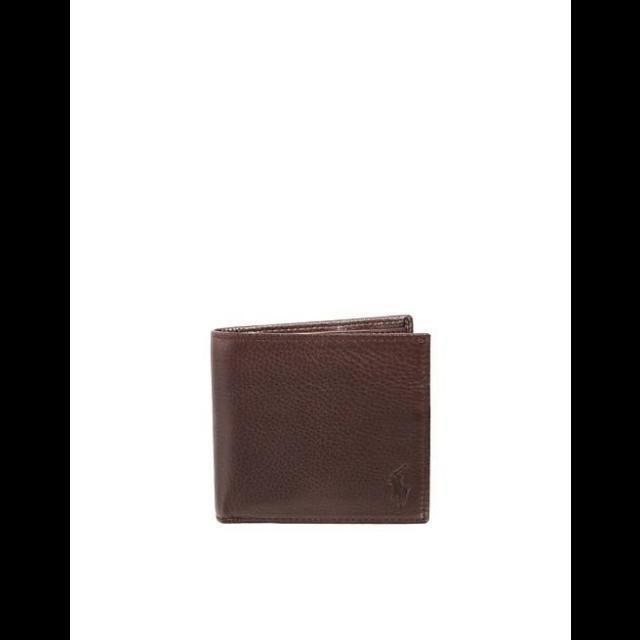Wallet: (202, 310, 434, 530)
